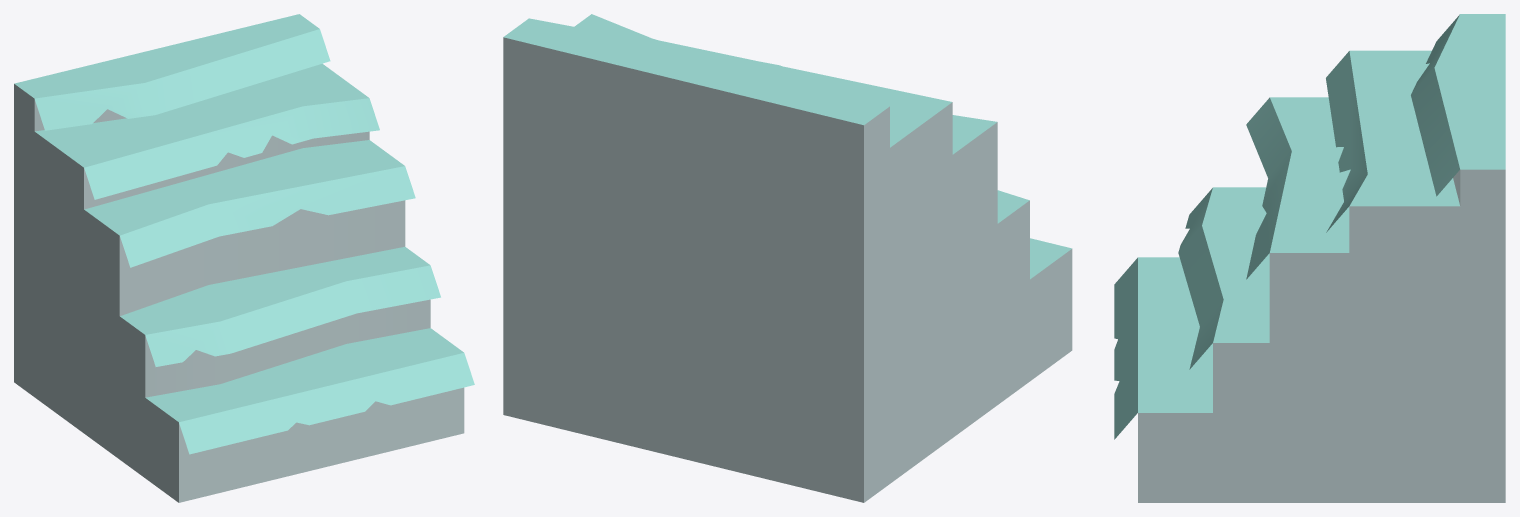
Rendered from cliffGrey_steps.glb.
3 renders of one model, left to right at view 1: azimuth 30°, elevation 25°; view 2: azimuth 150°, elevation 25°; view 3: azimuth 270°, elevation 25°, orthographic. The views are drawn at different scales.
Visible parts, largest first — view 1: cliffGrey_steps; view 2: cliffGrey_steps; view 3: cliffGrey_steps.
Part boxes in pixels (<box>): cliffGrey_steps: <box>14,14,474,502</box>; cliffGrey_steps: <box>503,14,1072,502</box>; cliffGrey_steps: <box>1114,14,1505,502</box>.
Bounding box in the file's own units: 1 × 1 × 1.06.
